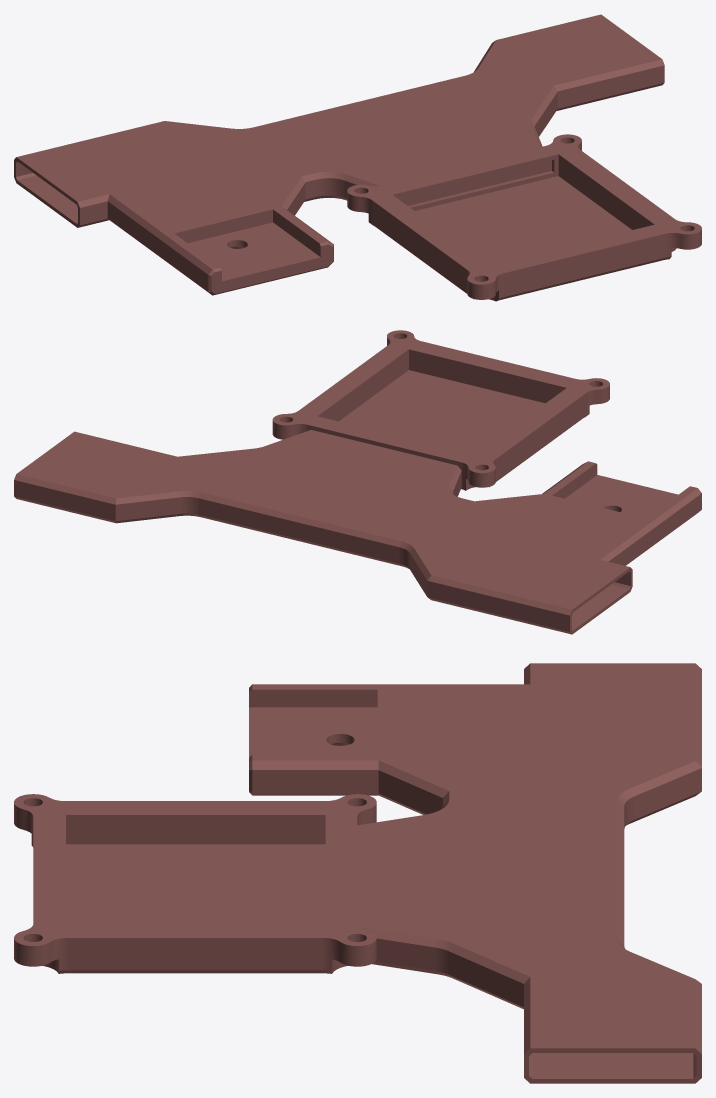
File: copper_plate_2.dae
3 views of the same model, one above another, from view 1: azimuth 30°, elevation 25°; view 2: azimuth 150°, elevation 25°; view 3: azimuth 270°, elevation 25° (orthographic). The views are drawn at different scales.
Parts seen in each view (by area): view 1: copper_plate_2; view 2: copper_plate_2; view 3: copper_plate_2.
Part boxes in pixels (box(x1,y1,x2,y2)): copper_plate_2: box(14, 14, 701, 301); copper_plate_2: box(14, 330, 701, 634); copper_plate_2: box(14, 663, 701, 1083).
Bounding box in the file's own units: 1.41 × 0.07 × 1.06.
